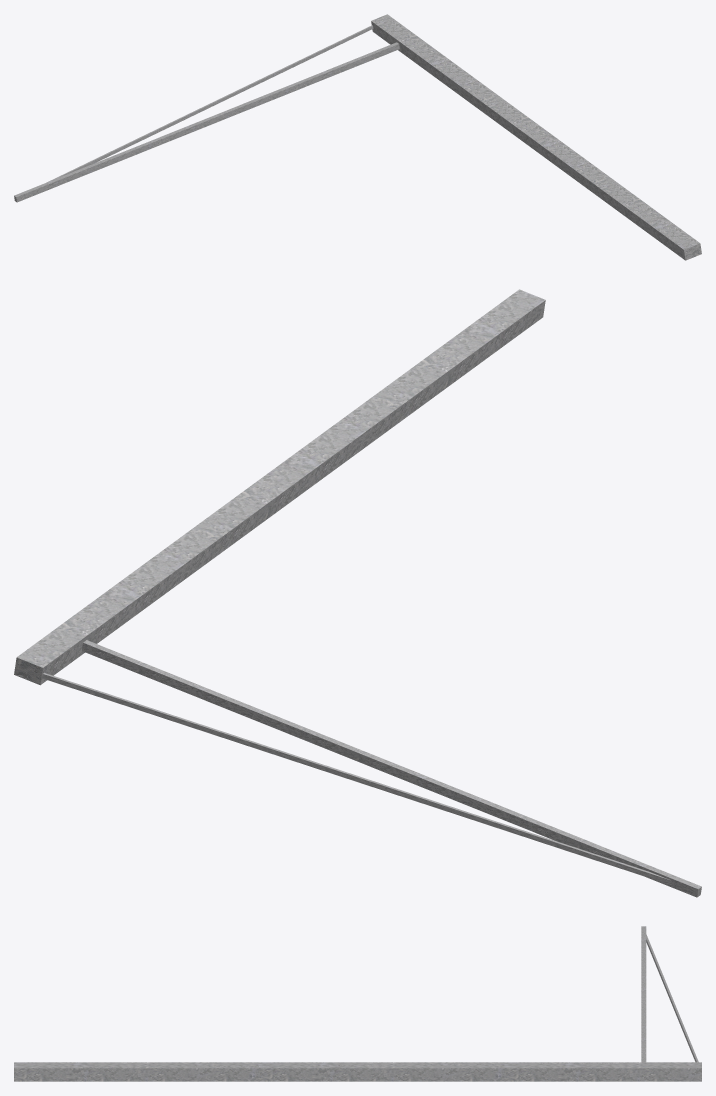
Rendered from _0AD_tower_rolex_002_SUB1_Scene.018.obj.
3 views of the same model, one above another, from view 1: azimuth 30°, elevation 25°; view 2: azimuth 150°, elevation 25°; view 3: azimuth 270°, elevation 25° (orthographic). The views are drawn at different scales.
Visible parts, largest first — view 1: _0AD_tower_rolex_002_SUB1_Scene.018; view 2: _0AD_tower_rolex_002_SUB1_Scene.018; view 3: _0AD_tower_rolex_002_SUB1_Scene.018.
Part boxes in pixels (box(x1,y1,x2,y2)): _0AD_tower_rolex_002_SUB1_Scene.018: box(14, 14, 701, 260); _0AD_tower_rolex_002_SUB1_Scene.018: box(14, 289, 701, 897); _0AD_tower_rolex_002_SUB1_Scene.018: box(14, 926, 701, 1081).
Size of the model in its own units: 5.08 by 0.8594 by 6.87.
